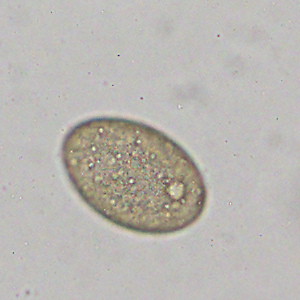Fasciola_hepatica_egg: (58, 114, 210, 238)
